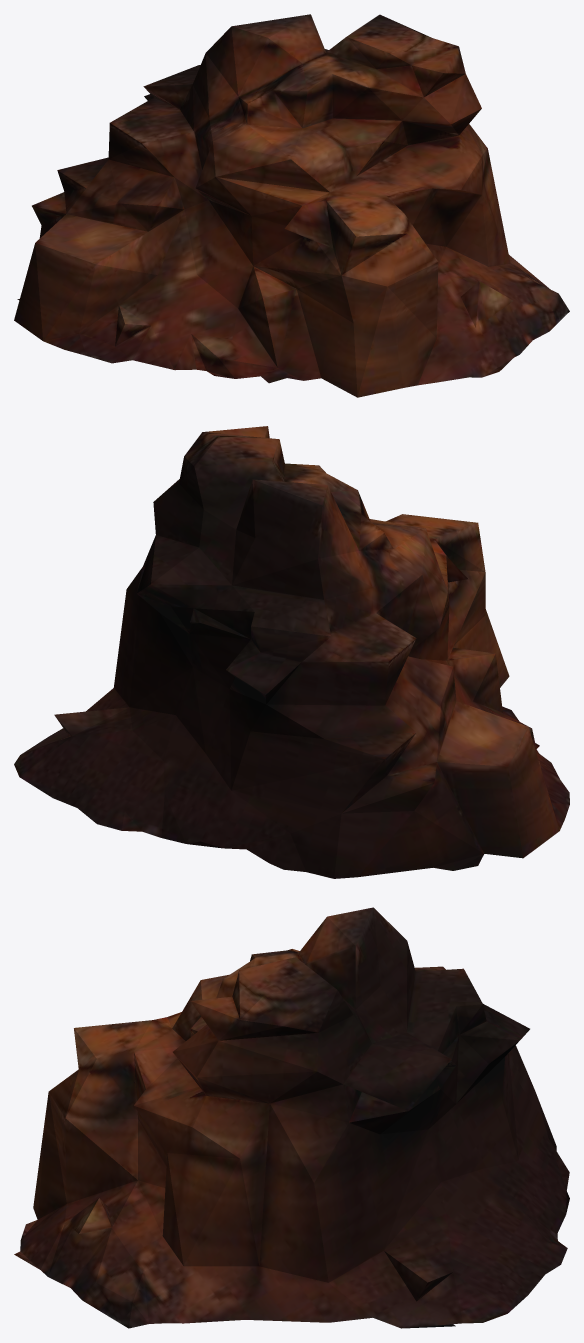
The model's file is red_sandstone_lod0.glb.
3 renders of one model, top to bottom at view 1: azimuth 30°, elevation 25°; view 2: azimuth 150°, elevation 25°; view 3: azimuth 270°, elevation 25°, orthographic. The views are drawn at different scales.
Parts seen in each view (by area): view 1: red_sandstone_lod0; view 2: red_sandstone_lod0; view 3: red_sandstone_lod0.
Boxes of the visible parts, x1=… form: red_sandstone_lod0: x1=14, y1=14, x2=569, y2=397; red_sandstone_lod0: x1=14, y1=426, x2=569, y2=878; red_sandstone_lod0: x1=14, y1=907, x2=569, y2=1328.
Size of the model in its own units: 0.9893 by 0.5661 by 0.9651.
Materials: 1 (1 with a texture image).
